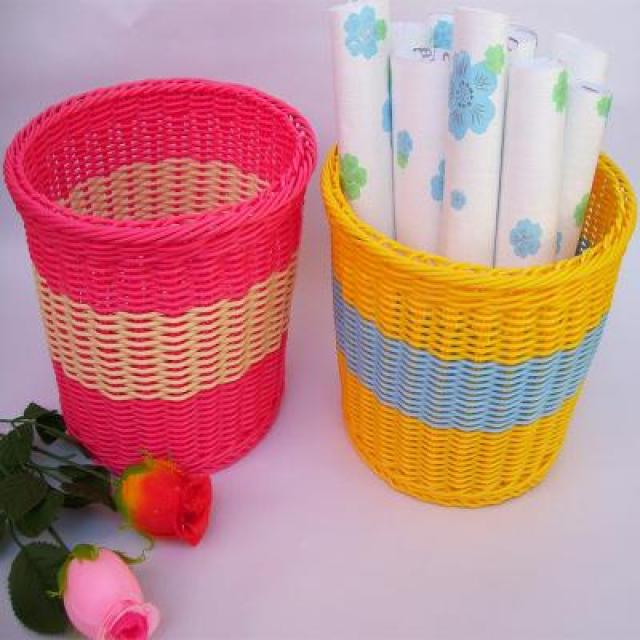Dustbin: (3, 72, 322, 480), (317, 111, 640, 513)
